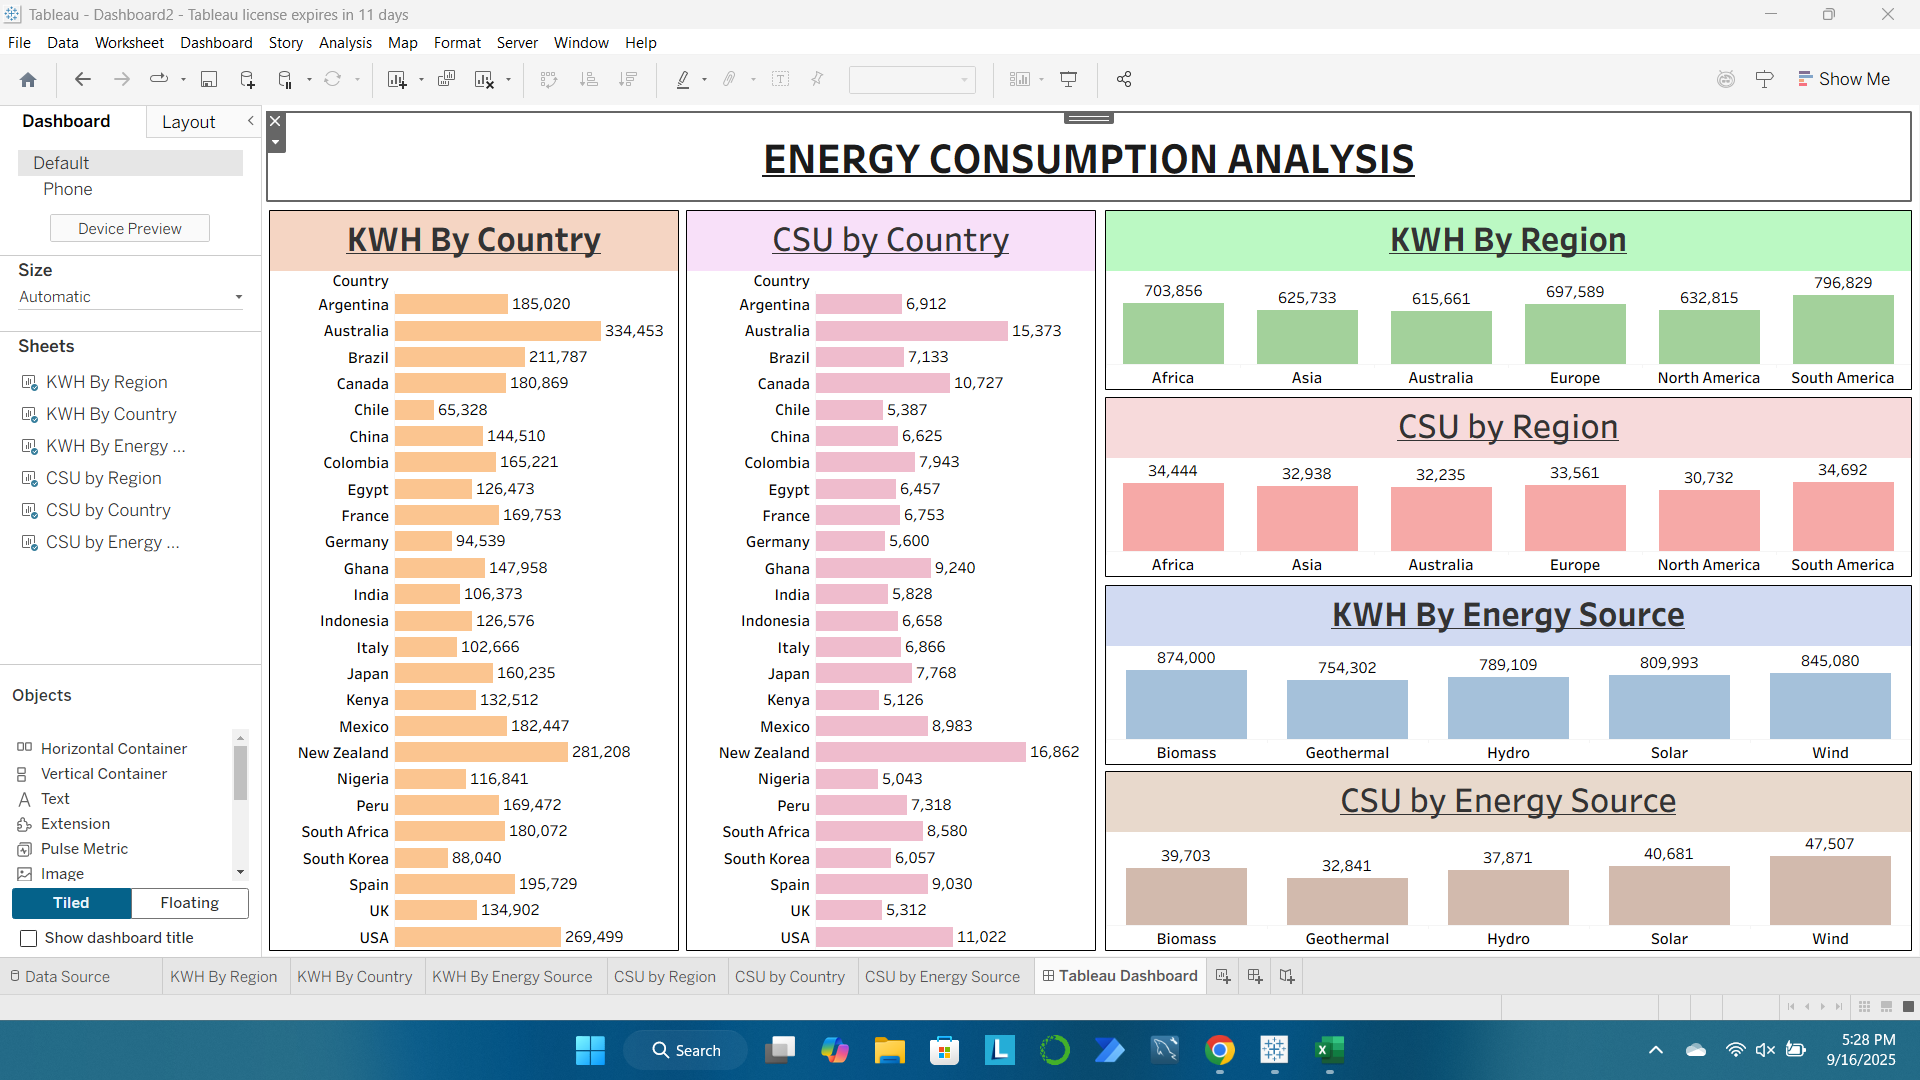

The page's visual inventory and layout, read from the dashboard file:
{"tool":"tableau","page":{"name":"Tableau Dashboard","canvas":[1000,1000],"units":"permille","ordinal":0},"visuals":[{"type":"text","box":[3.6,9.4,991,102.2]},{"type":"worksheet","title":"KWH By Country","mark":"Automatic","rows":["COUNTRY"],"cols":["MONTHLY_USAGE_KWH"],"box":[4.2,123.4,247.4,870.7]},{"type":"worksheet","title":"CSU by Country","mark":"Automatic","rows":["COUNTRY"],"cols":["COST_SAVINGS_USD"],"box":[255.9,123.4,247.4,870.7]},{"type":"worksheet","title":"KWH By Region","mark":"Automatic","rows":["MONTHLY_USAGE_KWH"],"cols":["REGION"],"box":[508.8,123.4,487,211.5]},{"type":"worksheet","title":"CSU by Region","mark":"Automatic","rows":["COST_SAVINGS_USD"],"cols":["REGION"],"box":[508.8,343.1,487,211.5]},{"type":"worksheet","title":"KWH By Energy Source","mark":"Automatic","rows":["MONTHLY_USAGE_KWH"],"cols":["ENERGY_SOURCE"],"box":[508.8,564,487,211.5]},{"type":"worksheet","title":"CSU by Energy Source","mark":"Automatic","rows":["COST_SAVINGS_USD"],"cols":["ENERGY_SOURCE"],"box":[508.8,782.6,487,211.5]}]}

Visuals, with their boxes on the dashboard's canvas, which has no fixed pixel size, in thousandths of its width and height (x1, y1, x2, y2). These are canvas units, not pixel positions in the 1920x1080 screenshot, which may show the page scaled, cropped or inside an application window:
text: 4 9 995 112
"KWH By Country" worksheet: 4 123 252 994
"CSU by Country" worksheet: 256 123 503 994
"KWH By Region" worksheet: 509 123 996 335
"CSU by Region" worksheet: 509 343 996 555
"KWH By Energy Source" worksheet: 509 564 996 776
"CSU by Energy Source" worksheet: 509 783 996 994
